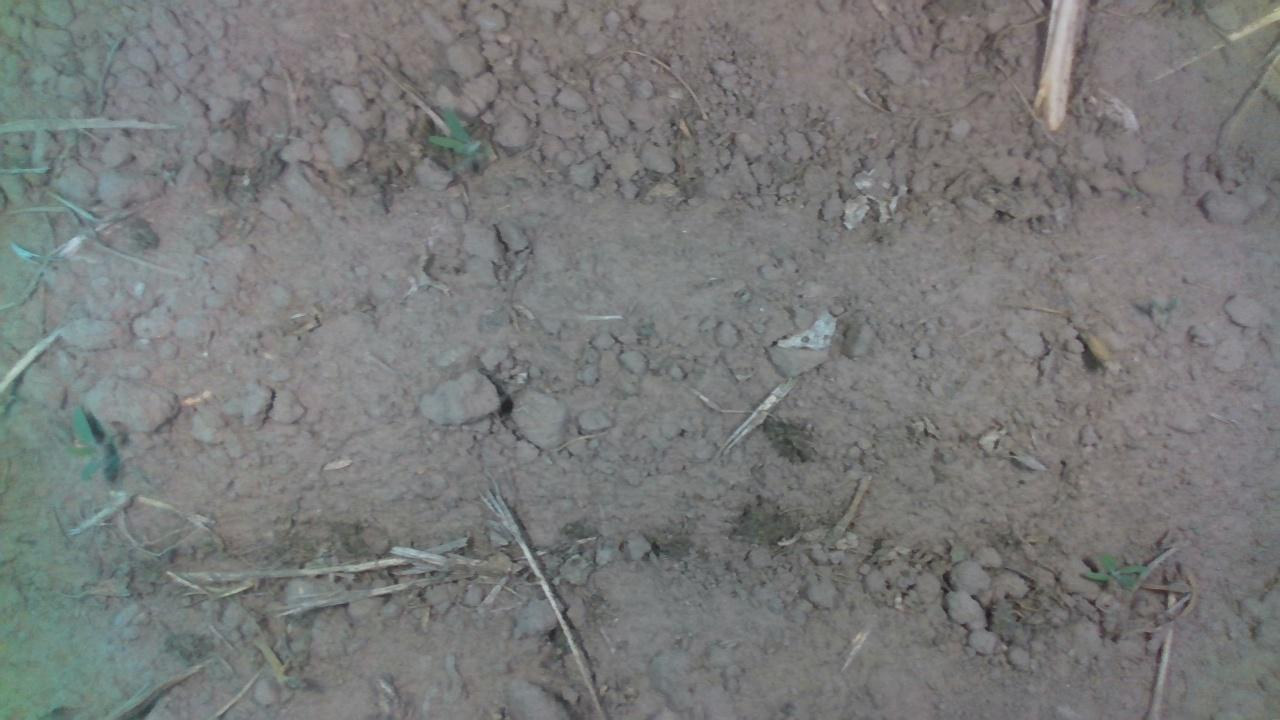weed: (57, 401, 108, 483), (420, 103, 484, 160), (1076, 549, 1148, 590)
